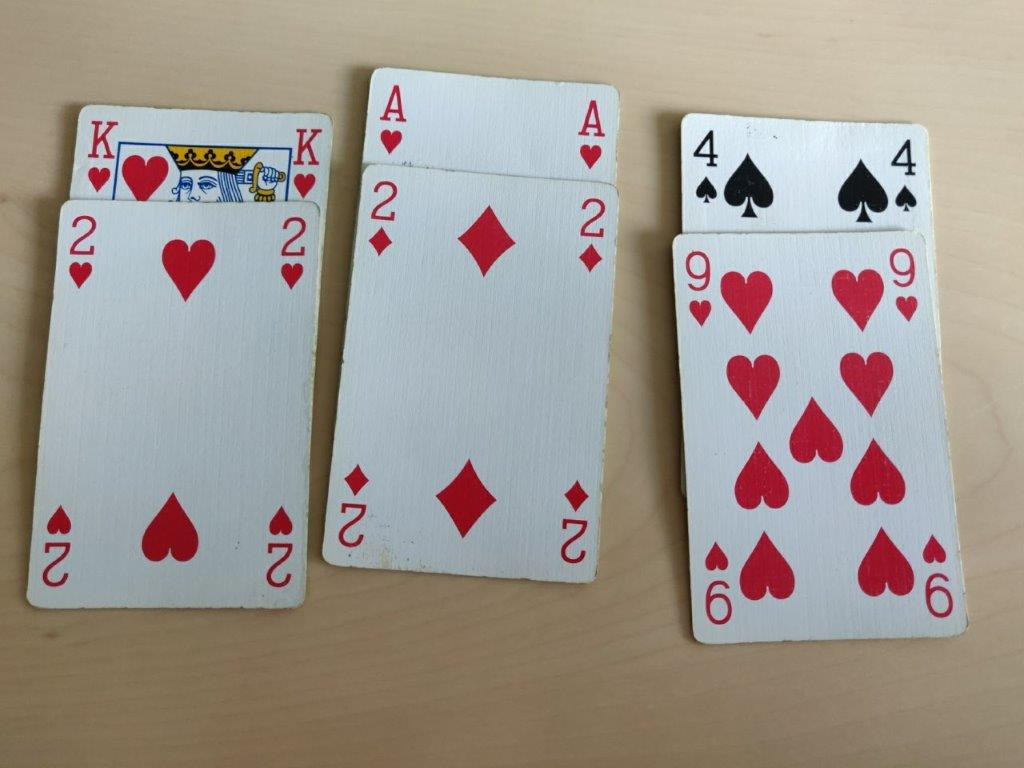2D: (573, 192, 610, 275), (365, 178, 400, 257)
2H: (63, 211, 102, 291), (273, 213, 312, 293)
4S: (690, 124, 723, 208), (888, 134, 921, 218)
9H: (681, 247, 716, 331), (885, 240, 920, 324)
AH: (376, 79, 408, 156), (576, 93, 608, 170)
KH: (82, 114, 118, 194), (288, 120, 324, 200)
